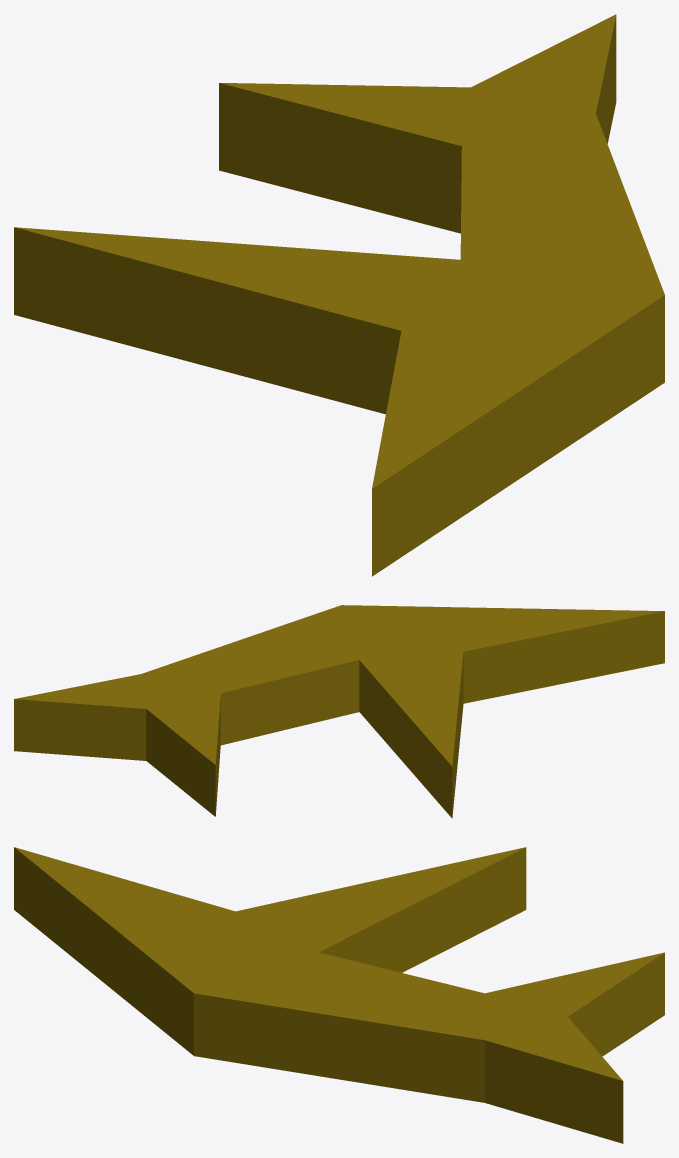
The model's file is inv_limpwurt_root.obj.
3 renders of one model, top to bottom at view 1: azimuth 30°, elevation 25°; view 2: azimuth 150°, elevation 25°; view 3: azimuth 270°, elevation 25°, orthographic. The views are drawn at different scales.
Bounding box in the file's own units: 0.3125 × 0.0391 × 0.3672.
